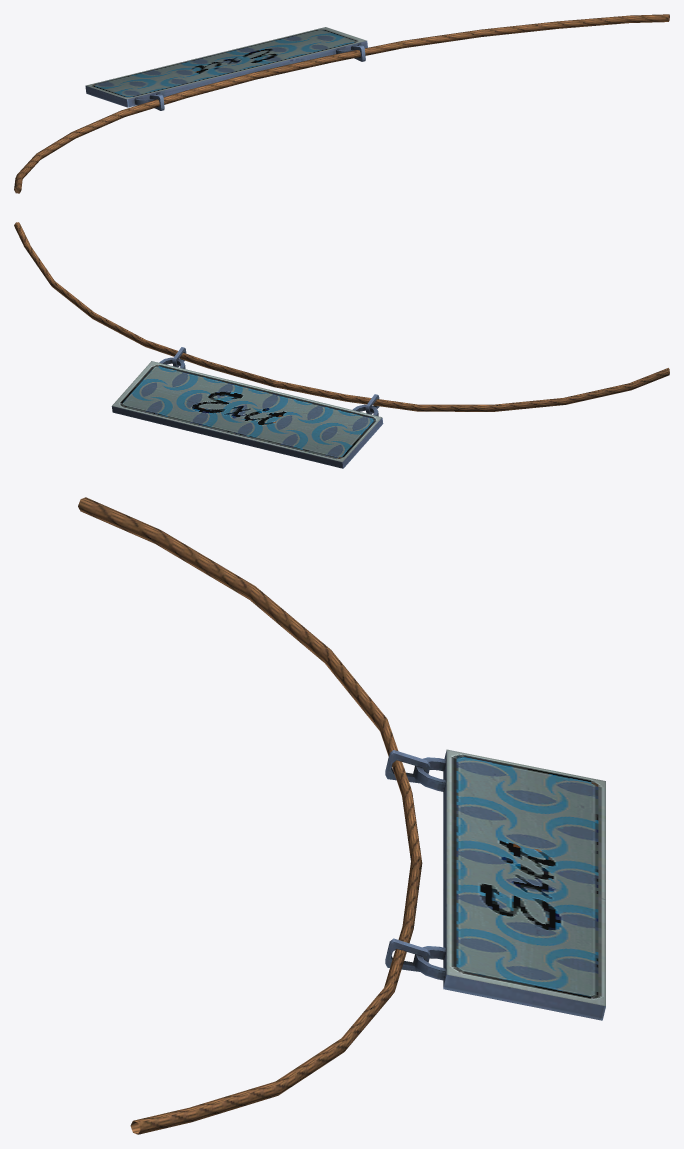
File: fxanim_mp_nuked2025_gate_sign02_mod_LOD0.obj
3 views of the same model, one above another, from view 1: azimuth 30°, elevation 25°; view 2: azimuth 150°, elevation 25°; view 3: azimuth 270°, elevation 25° (orthographic). The views are drawn at different scales.
Parts seen in each view (by area): view 1: mtl_nt_2020_street_gate_01; view 2: mtl_nt_2020_street_gate_01; view 3: mtl_nt_2020_street_gate_01.
Boxes of the visible parts, box(x1,y1,x2,y2) form: mtl_nt_2020_street_gate_01: box(14, 14, 669, 193); mtl_nt_2020_street_gate_01: box(14, 222, 669, 468); mtl_nt_2020_street_gate_01: box(78, 497, 605, 1134).
Size of the model in its own units: 140 by 11.06 by 49.88.
